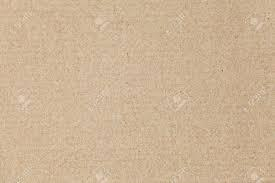Cardboard: (4, 2, 275, 183)
